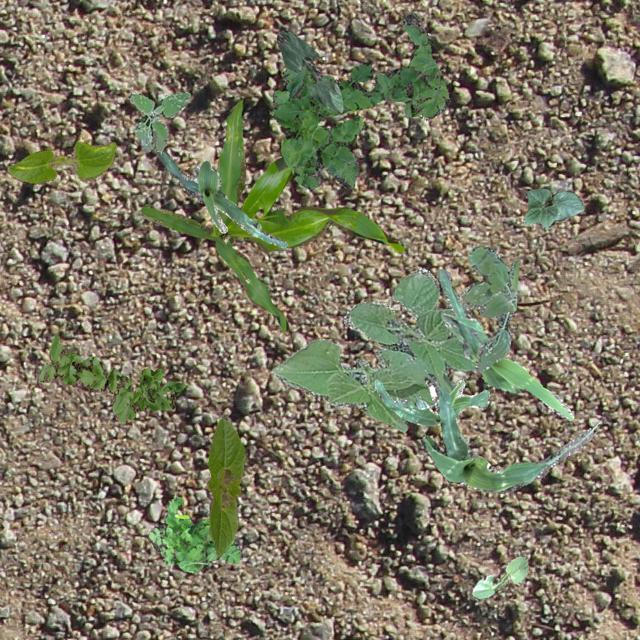crop: (138, 97, 404, 330), (268, 266, 476, 430), (420, 373, 594, 492), (437, 268, 572, 420), (156, 148, 286, 246), (206, 418, 247, 556), (276, 30, 342, 114), (374, 378, 488, 426), (6, 140, 116, 182), (522, 188, 584, 228), (471, 556, 526, 598)
weed: (268, 12, 448, 188), (38, 333, 184, 422), (458, 246, 518, 370), (148, 496, 240, 572), (126, 90, 190, 152)
